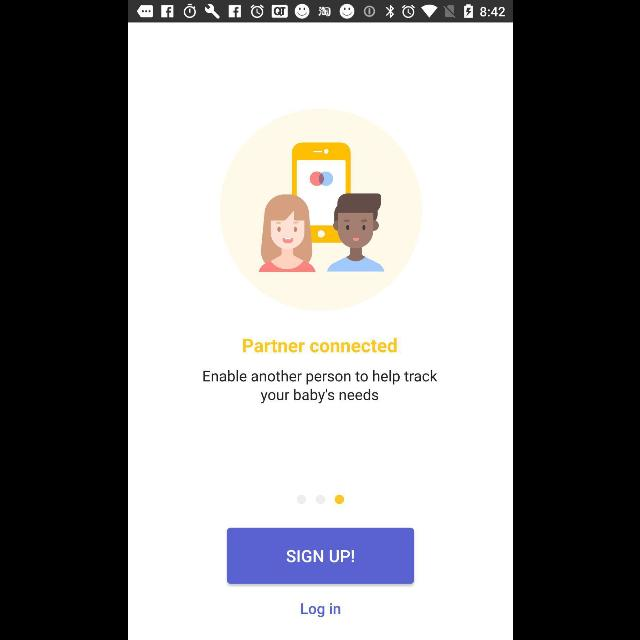image: (219, 108, 423, 312)
pageindicator: (296, 495, 344, 505)
text: (203, 370, 437, 404), (242, 338, 396, 354), (300, 603, 340, 617)
textbutton: (226, 528, 414, 584)
uppertaskbar: (128, 1, 512, 23)
